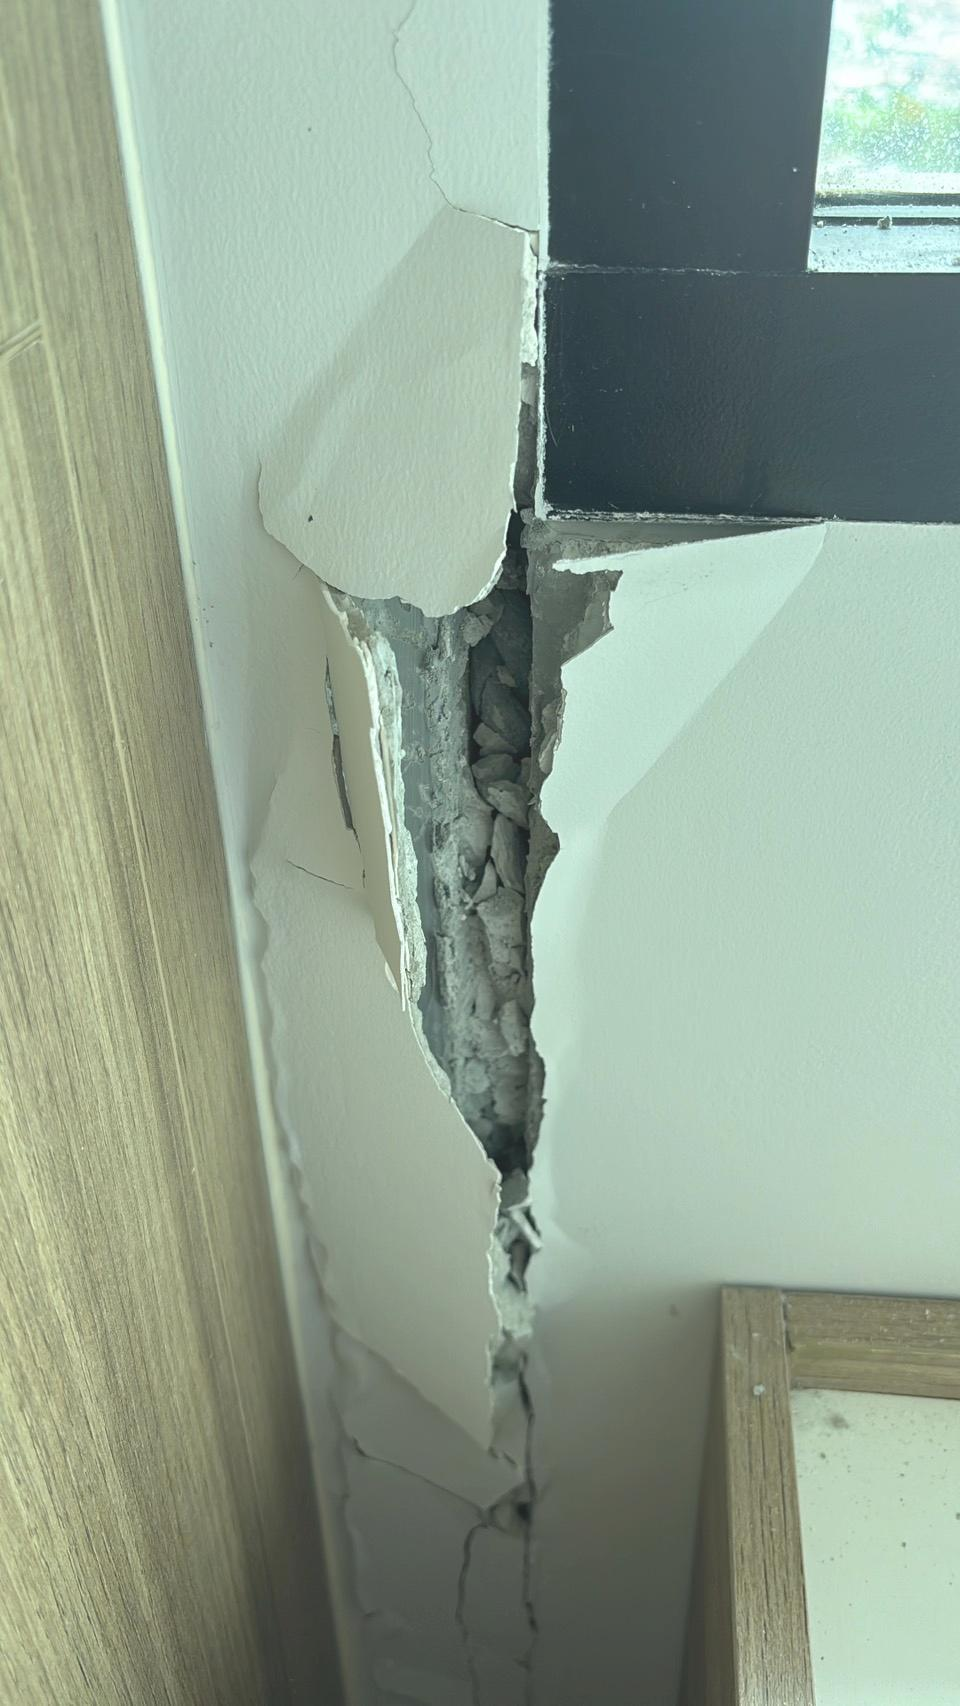High: (210, 2, 727, 1704)
